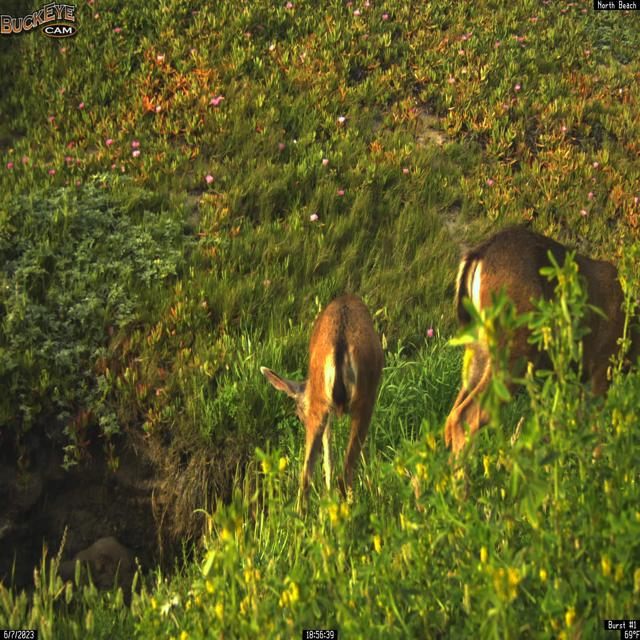deer: (259, 293, 385, 520)
